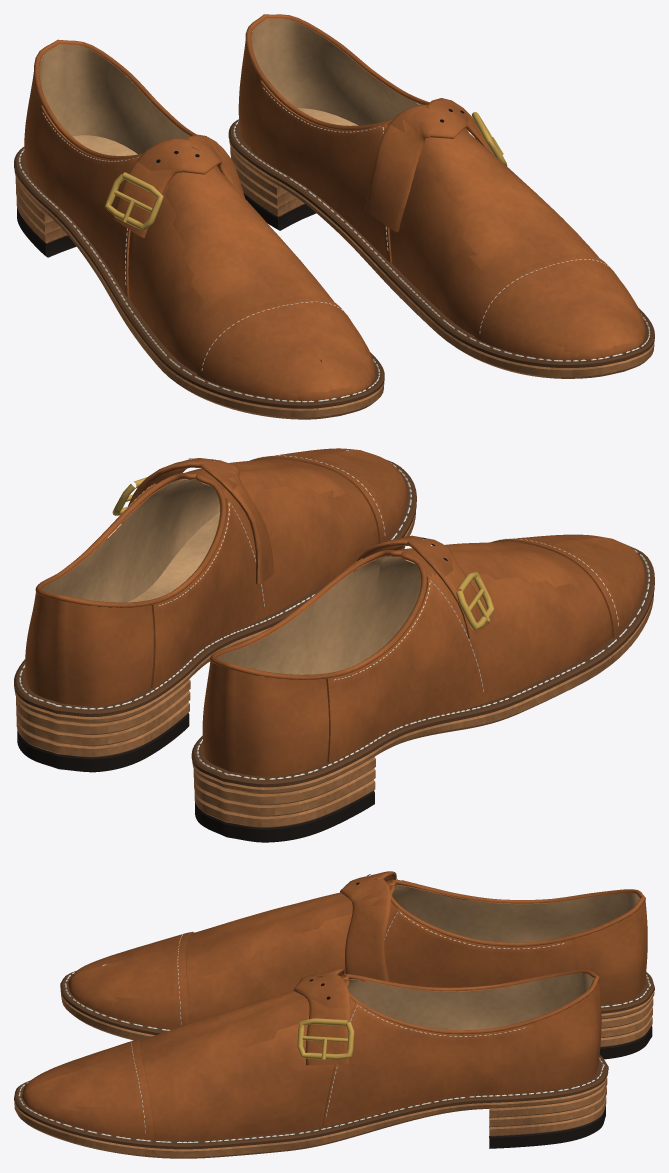
File: monk-strap-shoe.glb
The picture shows the model from 3 angles, top to bottom: view 1: azimuth 30°, elevation 25°; view 2: azimuth 150°, elevation 25°; view 3: azimuth 270°, elevation 25°; orthographic projection. The views are drawn at different scales.
Visible parts, largest first — view 1: Left_Shoe, Right_Shoe; view 2: Right_Shoe, Left_Shoe; view 3: Left_Shoe, Right_Shoe.
Boxes of the visible parts, x1=… form: Left_Shoe: x1=228, y1=14, x2=654, y2=378; Right_Shoe: x1=14, y1=39, x2=384, y2=419; Right_Shoe: x1=191, y1=534, x2=654, y2=842; Left_Shoe: x1=14, y1=448, x2=416, y2=772; Left_Shoe: x1=14, y1=968, x2=608, y2=1158; Right_Shoe: x1=60, y1=871, x2=654, y2=1059.
Bounding box in the file's own units: 0.2234 × 0.0875 × 0.3327.
Materials: 8 (3 with a texture image).
